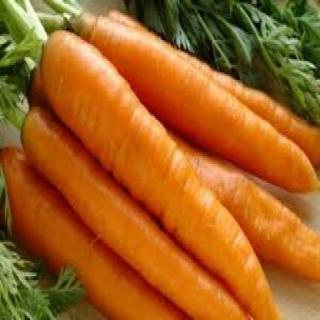Wortel: (38, 27, 290, 320), (68, 11, 320, 199)
